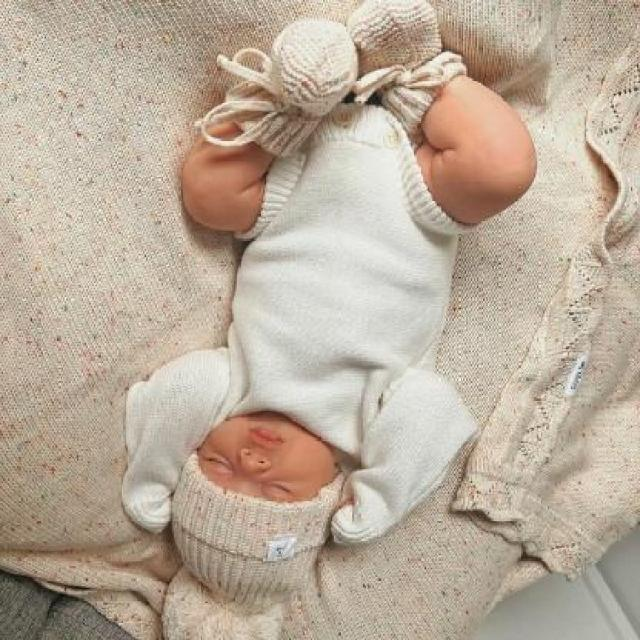baby: (119, 5, 536, 608)
